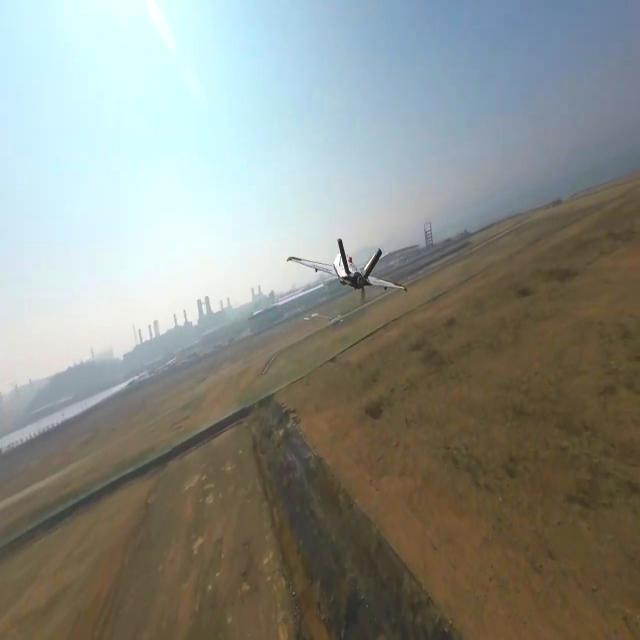iha: (316, 230, 376, 290)
